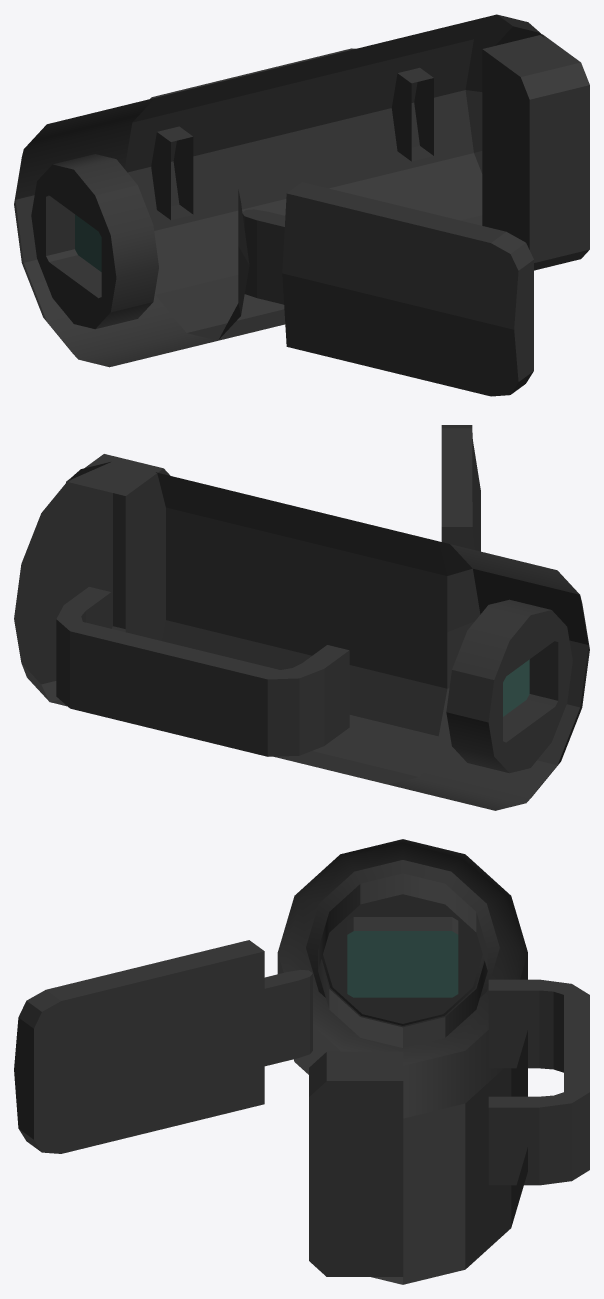
File: camera.glb
3 views of the same model, one above another, from view 1: azimuth 30°, elevation 25°; view 2: azimuth 150°, elevation 25°; view 3: azimuth 270°, elevation 25° (orthographic).
Parts seen in each view (by area): view 1: Circle.001_2, Cube.002_5, Cube_3, Cylinder_1, Circle_0, Cube.004_4, Cube.001_7; view 2: Circle.001_2, Cube.004_4, Cylinder_1, Circle_0, Cube_3, Cube.002_5; view 3: Cube.002_5, Circle_0, Cylinder_1, Cube_3, Cube.004_4, Circle.001_2, Cube.001_7.
Boxes of the visible parts, x1,y1,x2,y2 form: Circle.001_2: (124, 14, 544, 340); Cube.002_5: (282, 182, 533, 396); Cube_3: (482, 34, 589, 270); Cylinder_1: (31, 154, 158, 329); Circle_0: (14, 98, 217, 367); Cube.004_4: (150, 48, 433, 219); Cube.001_7: (242, 209, 285, 304); Circle.001_2: (14, 462, 480, 784); Cube.004_4: (56, 587, 349, 756); Cylinder_1: (446, 599, 572, 773); Circle_0: (388, 544, 589, 810); Cube_3: (66, 454, 170, 640); Cube.002_5: (441, 425, 480, 551); Cube.002_5: (14, 940, 264, 1153); Circle_0: (277, 839, 527, 1118); Cylinder_1: (318, 873, 487, 1047); Cube_3: (309, 1051, 403, 1276); Cube.004_4: (488, 979, 589, 1185); Circle.001_2: (371, 1030, 527, 1284); Cube.001_7: (264, 970, 312, 1066).
Bounding box in the file's own units: 4.36 × 2 × 4.6.
